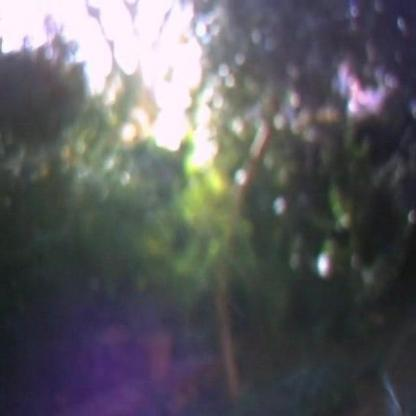other: (25, 8, 222, 190)
